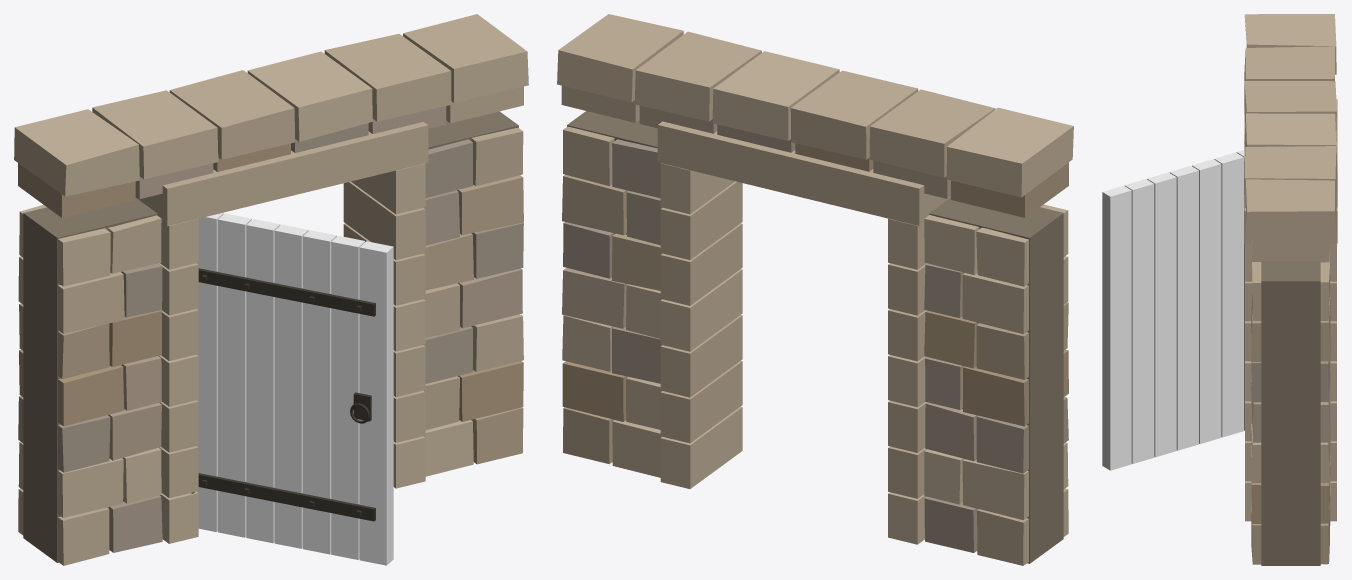
File: Corked_Walls.glb
The picture shows the model from 3 angles, left to right: view 1: azimuth 30°, elevation 25°; view 2: azimuth 150°, elevation 25°; view 3: azimuth 270°, elevation 25°; orthographic projection. The views are drawn at different scales.
Visible parts, largest first — view 1: Doorwall_mortar_side, Door_lintel, Door_plank_7, Door_plank_3, Door_plank_5, Door_plank_2, Door_plank_4, Door_plank_6, Doorwall_Straight_Window_Coping_0, Doorwall_Straight_Window_Coping_1, Doorwall_Straight_Window_Coping_4, Doorwall_Straight_Window_Coping_3 (+54 smaller); view 2: Doorwall_mortar_side, Door_lintel, Doorwall_Straight_Window_Coping_0, Doorwall_Straight_Window_Coping_3, Doorwall_Straight_Window_Coping_2, Doorwall_Straight_Window_Coping_4, Doorwall_Straight_Window_Coping_5, Doorwall_Straight_Window_Coping_1, Door_jamb_1_0, Door_jamb_1_1, Door_jamb_1_2, Door_jamb_1_3 (+45 smaller); view 3: Doorwall_mortar_side.001, Door_plank_7, Door_plank_6, Door_plank_2, Door_plank_5, Door_plank_3, Door_plank_4, Doorwall_Straight_Window_Coping_5, Doorwall_Straight_Window_Coping_4, Doorwall_Straight_Window_Coping_3, Doorwall_Straight_Window_Coping_1, Doorwall_Straight_Window_Coping_2 (+18 smaller).
Boxes of the visible parts, x1,y1,x2,y2 form: Doorwall_mortar_side: (23, 198, 157, 562); Door_lintel: (135, 122, 428, 226); Door_plank_7: (359, 241, 393, 565); Door_plank_3: (246, 219, 280, 543); Door_plank_5: (303, 230, 336, 554); Door_plank_2: (218, 213, 251, 537); Door_plank_4: (274, 224, 308, 548); Door_plank_6: (331, 235, 365, 559); Doorwall_Straight_Window_Coping_0: (14, 109, 139, 196); Doorwall_Straight_Window_Coping_1: (92, 90, 218, 179); Doorwall_Straight_Window_Coping_4: (324, 34, 451, 121); Doorwall_Straight_Window_Coping_3: (247, 51, 372, 141); Doorwall_mortar_side: (929, 197, 1063, 563); Door_lintel: (657, 121, 950, 225); Doorwall_Straight_Window_Coping_0: (946, 107, 1073, 197); Doorwall_Straight_Window_Coping_3: (712, 51, 839, 140); Doorwall_Straight_Window_Coping_2: (790, 70, 918, 159); Doorwall_Straight_Window_Coping_4: (634, 31, 761, 121); Doorwall_Straight_Window_Coping_5: (557, 14, 683, 102); Doorwall_Straight_Window_Coping_1: (869, 89, 995, 177); Door_jamb_1_0: (660, 406, 742, 488); Door_jamb_1_1: (660, 360, 742, 443); Door_jamb_1_2: (660, 315, 742, 397); Door_jamb_1_3: (660, 269, 742, 351); Doorwall_mortar_side.001: (1261, 261, 1320, 565); Door_plank_7: (1102, 185, 1131, 470); Door_plank_6: (1124, 179, 1154, 463); Door_plank_2: (1214, 152, 1243, 437); Door_plank_5: (1147, 172, 1176, 457); Door_plank_3: (1192, 159, 1221, 443); Door_plank_4: (1169, 165, 1198, 450); Doorwall_Straight_Window_Coping_5: (1244, 179, 1336, 240); Doorwall_Straight_Window_Coping_4: (1244, 146, 1337, 207); Doorwall_Straight_Window_Coping_3: (1244, 113, 1337, 174); Doorwall_Straight_Window_Coping_1: (1244, 46, 1334, 108); Doorwall_Straight_Window_Coping_2: (1244, 81, 1336, 137).
Size of what is drawn, in the model's own units: 2.98 by 2.5 by 1.5.
